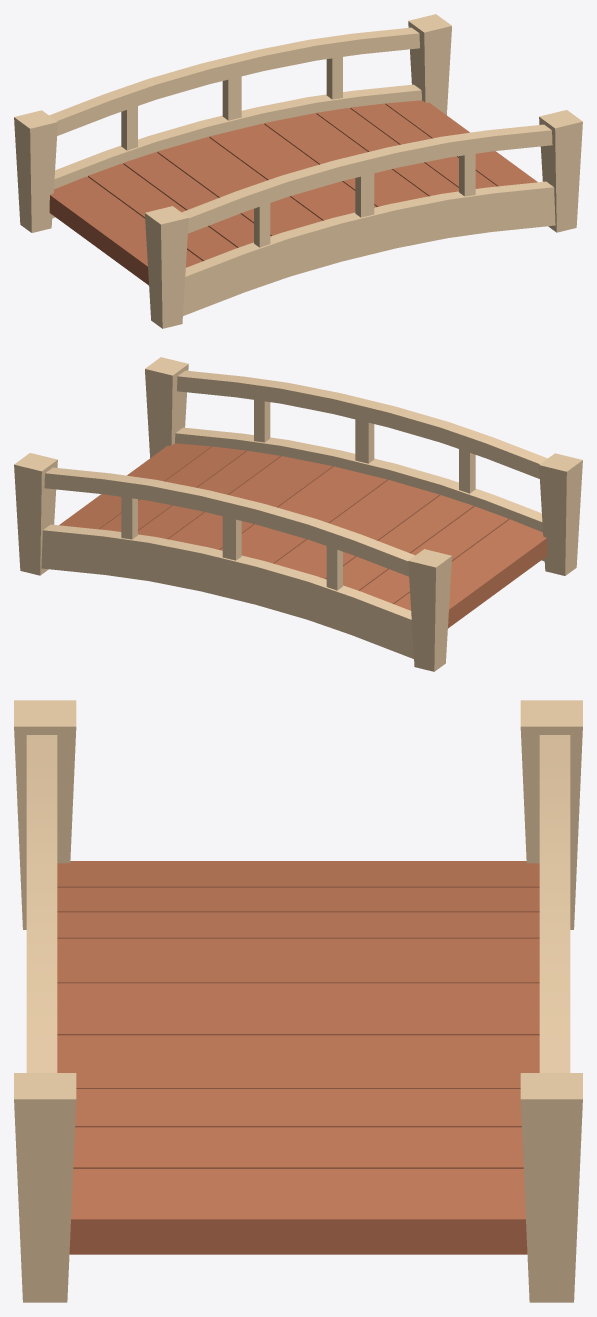
Rendered from Bridge2.fbx.
3 views of the same model, one above another, from view 1: azimuth 30°, elevation 25°; view 2: azimuth 150°, elevation 25°; view 3: azimuth 270°, elevation 25° (orthographic). The views are drawn at different scales.
Visible parts, largest first — view 1: Cube.027; view 2: Cube.027; view 3: Cube.027.
Boxes of the visible parts, bbox=[...] form: Cube.027: bbox=[14, 14, 582, 328]; Cube.027: bbox=[14, 357, 582, 671]; Cube.027: bbox=[14, 700, 582, 1302].
Size of the model in its own units: 157 by 41.88 by 94.54.
Materials: 1 (1 with a texture image).
